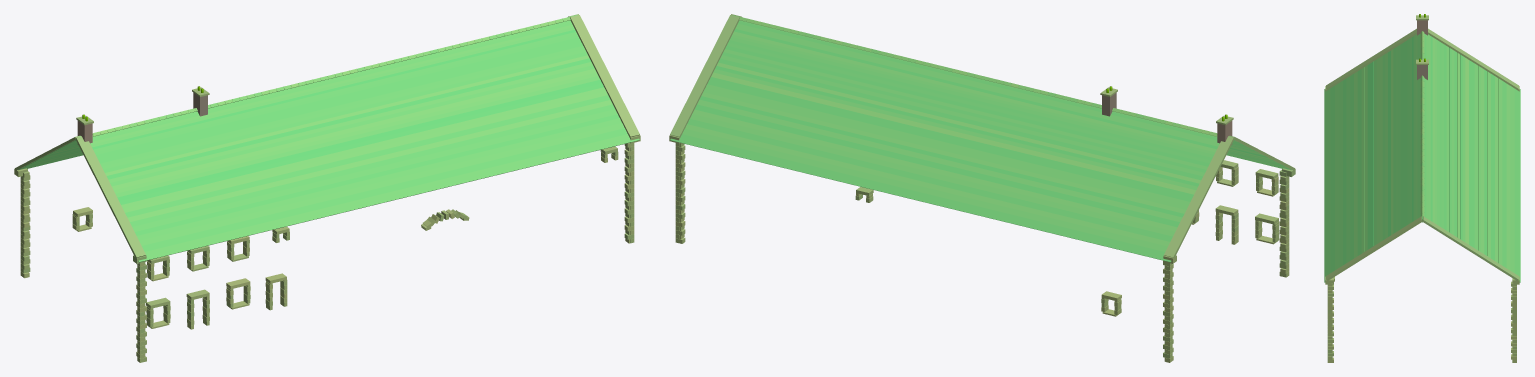
Rendered from SM_Bld_025_Stone.glb.
3 renders of one model, left to right at view 1: azimuth 30°, elevation 25°; view 2: azimuth 150°, elevation 25°; view 3: azimuth 270°, elevation 25°, orthographic. The views are drawn at different scales.
Visible parts, largest first — view 1: SM_Bld_025_Stone; view 2: SM_Bld_025_Stone; view 3: SM_Bld_025_Stone.
Boxes of the visible parts, bbox=[...] form: SM_Bld_025_Stone: bbox=[14, 14, 640, 362]; SM_Bld_025_Stone: bbox=[669, 14, 1295, 362]; SM_Bld_025_Stone: bbox=[1324, 14, 1520, 362].
Bounding box in the file's own units: 37.72 × 14.45 × 16.12.
